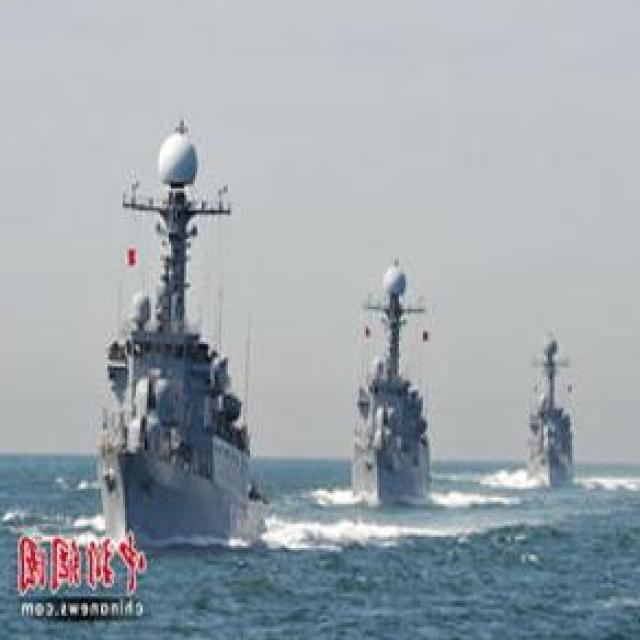navalvessels: (97, 118, 267, 551), (344, 251, 440, 509), (518, 326, 579, 484)
